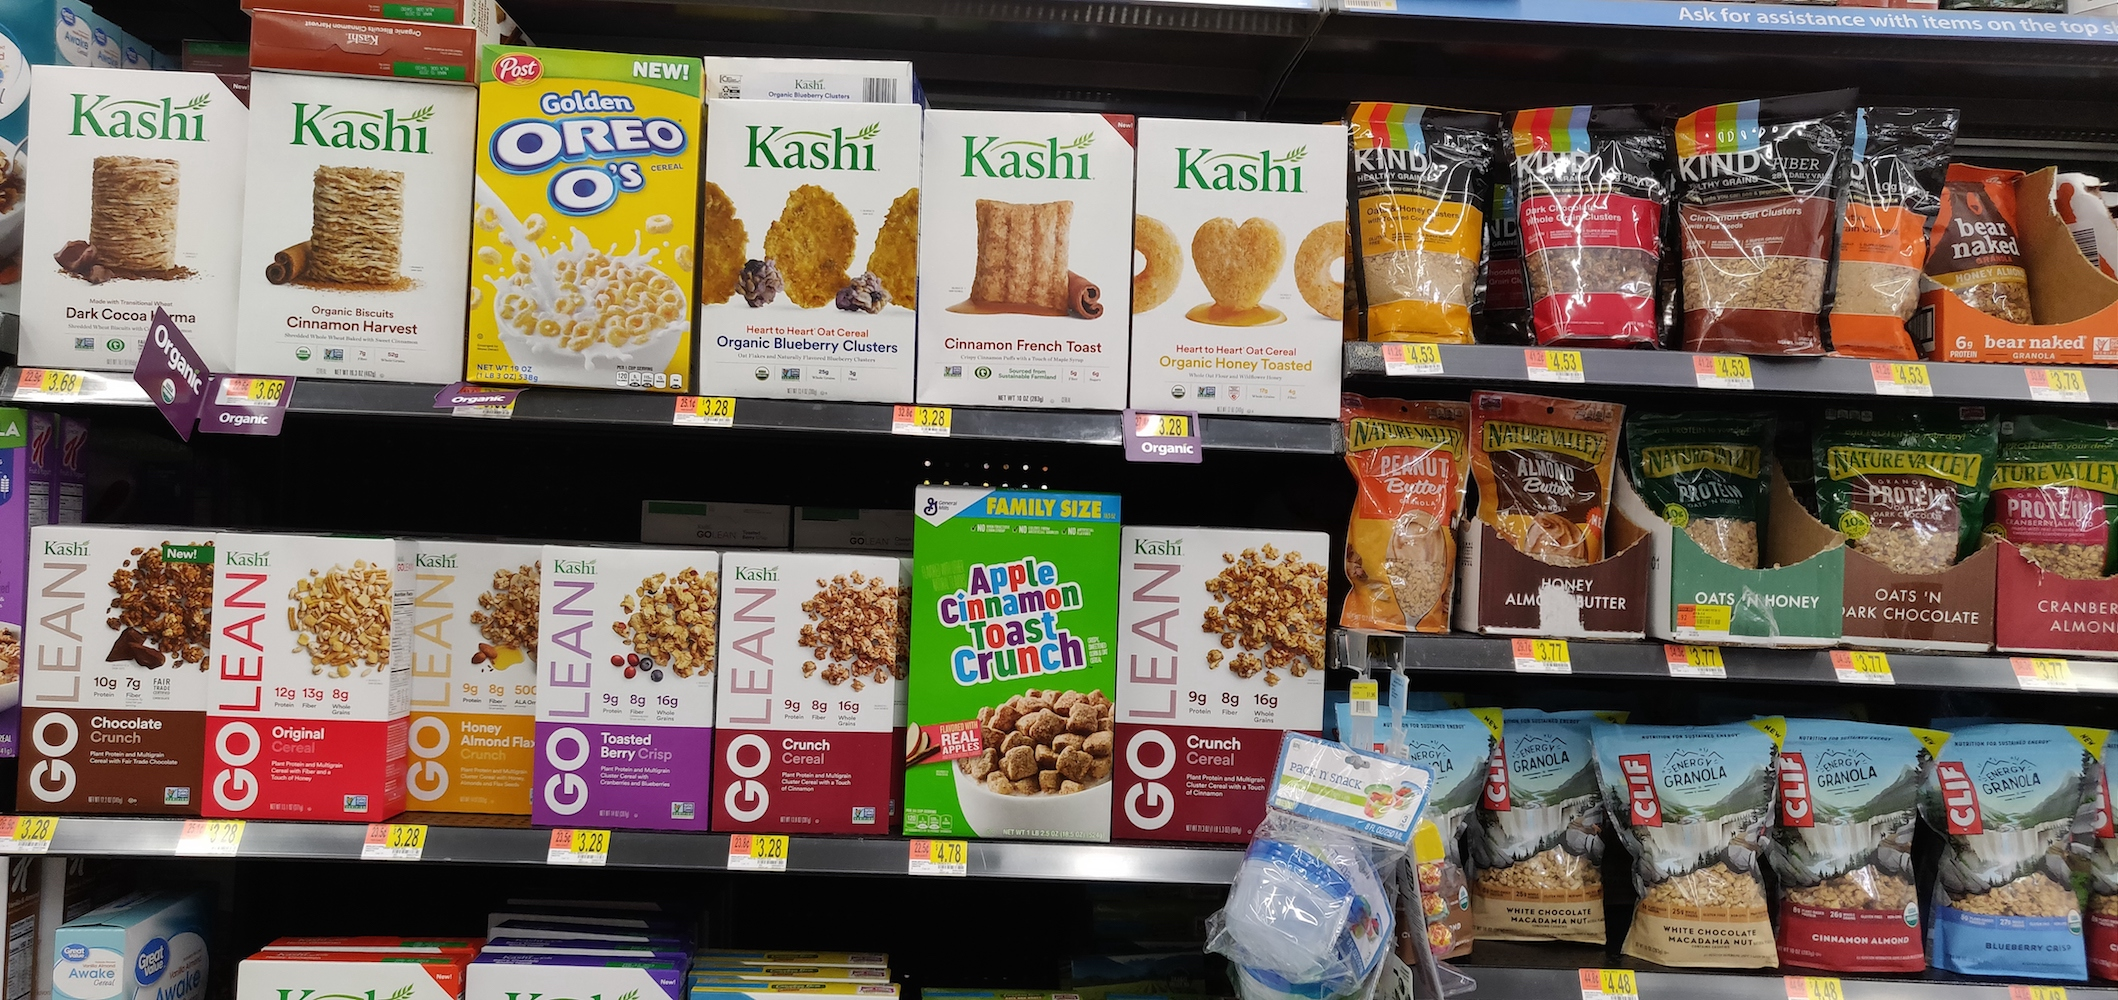Oreo Golden-568301011: (484, 57, 697, 382)
